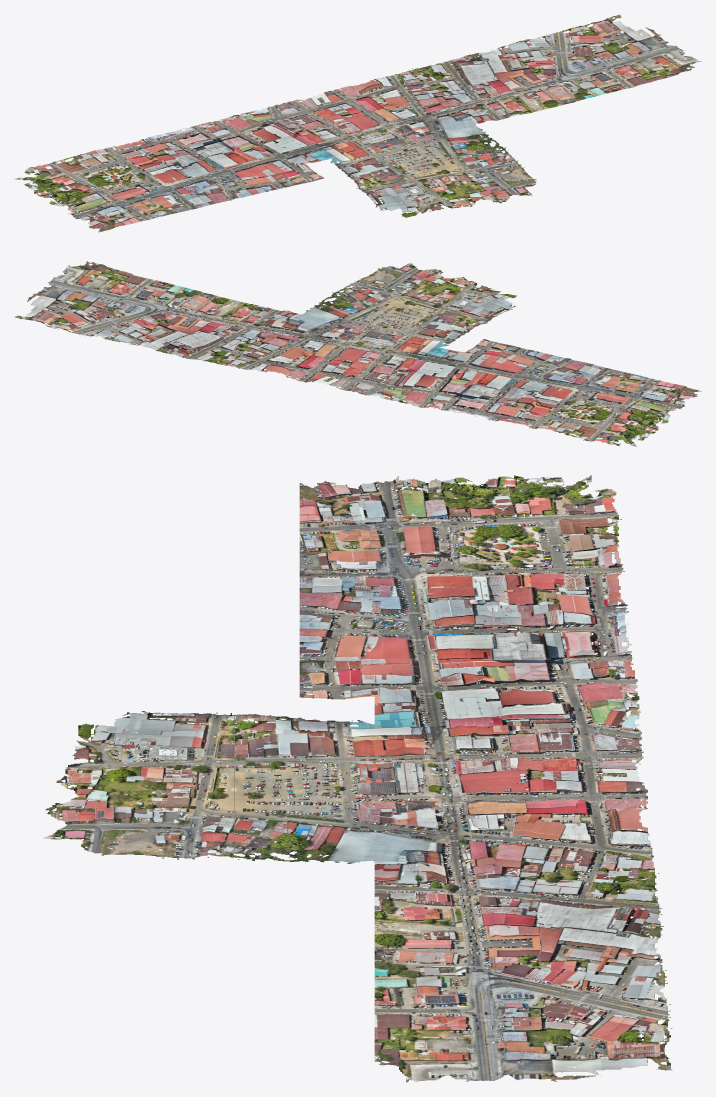
File: terreno_dem.glb
3 views of the same model, one above another, from view 1: azimuth 30°, elevation 25°; view 2: azimuth 150°, elevation 25°; view 3: azimuth 270°, elevation 25° (orthographic). The views are drawn at different scales.
Visible parts, largest first — view 1: b_72104_125156, b_72106_125155, b_72105_125155, b_72104_125155, b_72103_125155, b_72102_125155, b_72104_125157, b_72101_125155, b_72103_125156, b_72102_125156, b_72101_125156, b_72107_125155 (+4 smaller); view 2: b_72104_125156, b_72106_125155, b_72105_125155, b_72104_125155, b_72103_125155, b_72102_125155, b_72104_125157, b_72101_125155, b_72103_125156, b_72102_125156, b_72101_125156, b_72105_125156 (+4 smaller); view 3: b_72104_125156, b_72106_125155, b_72105_125155, b_72104_125155, b_72103_125155, b_72102_125155, b_72103_125156, b_72104_125157, b_72101_125155, b_72102_125156, b_72101_125156, b_72105_125156 (+4 smaller).
Boxes of the visible parts, box(x1,y1,x2,y2) form: b_72104_125156: box(350, 113, 502, 176); b_72106_125155: box(493, 25, 643, 90); b_72105_125155: box(396, 50, 545, 112); b_72104_125155: box(301, 74, 447, 134); b_72103_125155: box(205, 99, 349, 157); b_72102_125155: box(110, 123, 251, 179); b_72104_125157: box(406, 153, 536, 208); b_72101_125155: box(21, 147, 154, 204); b_72103_125156: box(252, 135, 405, 186); b_72102_125156: box(155, 157, 290, 208); b_72101_125156: box(57, 180, 193, 232); b_72107_125155: box(588, 15, 684, 64); b_72104_125156: box(289, 291, 436, 352); b_72106_125155: box(47, 285, 194, 346); b_72105_125155: box(144, 309, 288, 368); b_72104_125155: box(239, 331, 383, 387); b_72103_125155: box(337, 353, 477, 407); b_72102_125155: box(433, 374, 571, 427); b_72104_125157: box(344, 262, 477, 313); b_72101_125155: box(529, 396, 665, 446); b_72103_125156: box(384, 313, 515, 374); b_72102_125156: box(478, 346, 609, 395); b_72101_125156: box(572, 369, 701, 419); b_72105_125156: box(195, 290, 341, 331); b_72104_125156: box(235, 761, 450, 857); b_72106_125155: box(450, 949, 666, 1043); b_72105_125155: box(450, 855, 663, 951); b_72104_125155: box(450, 757, 653, 857); b_72103_125155: box(450, 665, 643, 762); b_72102_125155: box(450, 572, 633, 668); b_72103_125156: box(235, 664, 450, 762); b_72104_125157: box(44, 761, 234, 857); b_72101_125155: box(450, 481, 624, 573); b_72102_125156: box(299, 572, 450, 666); b_72101_125156: box(299, 478, 450, 573); b_72105_125156: box(235, 853, 450, 951).
Bounding box in the file's own units: 989 × 13.04 × 437.
21 materials, 21 textured.
